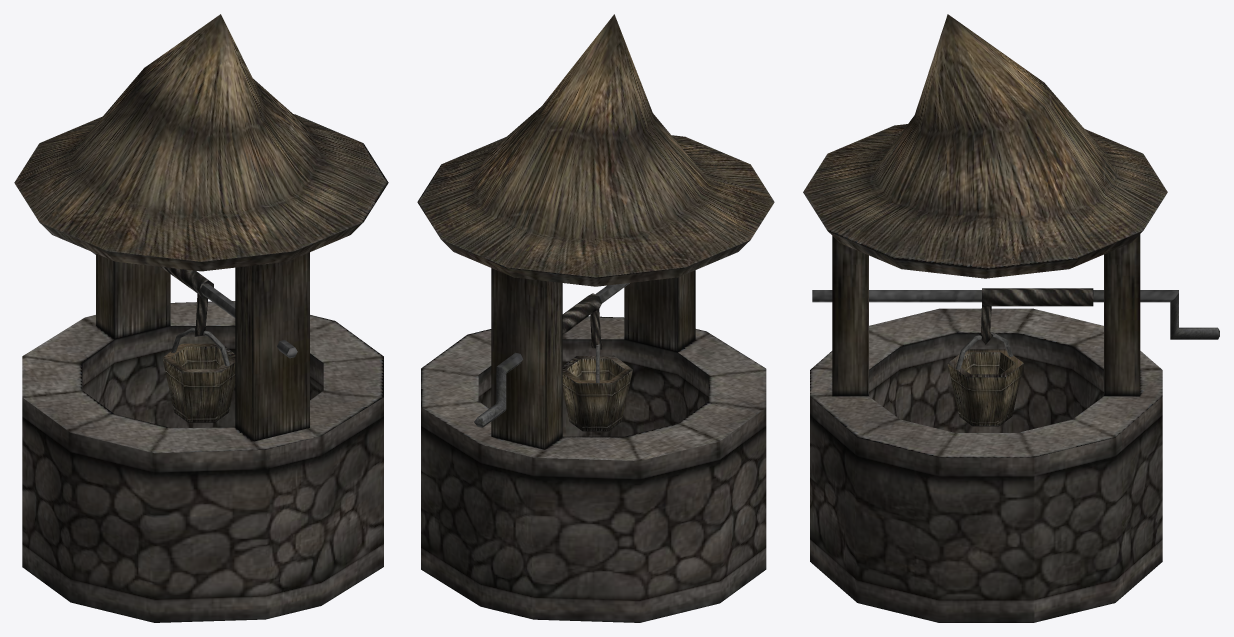
File: Well.obj
The picture shows the model from 3 angles, left to right: view 1: azimuth 30°, elevation 25°; view 2: azimuth 150°, elevation 25°; view 3: azimuth 270°, elevation 25°; orthographic projection. The views are drawn at different scales.
Visible parts, largest first — view 1: well; view 2: well; view 3: well.
Part boxes in pixels (<box>): well: <box>14,14,388,622</box>; well: <box>417,14,774,622</box>; well: <box>803,14,1219,622</box>.
Size of the model in its own units: 53.28 by 85.96 by 60.88.
Materials: 1 (1 with a texture image).
